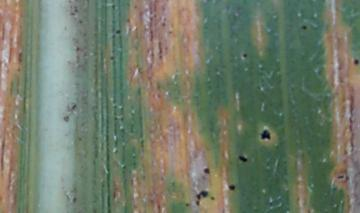tarspot: (259, 127, 272, 144), (195, 189, 207, 206), (237, 152, 250, 165), (67, 103, 79, 113), (62, 114, 72, 123), (333, 173, 345, 180), (227, 182, 236, 191), (201, 166, 210, 175), (300, 23, 308, 31), (352, 57, 359, 66), (113, 28, 122, 34), (241, 52, 248, 59), (210, 195, 216, 200), (184, 201, 189, 207)
